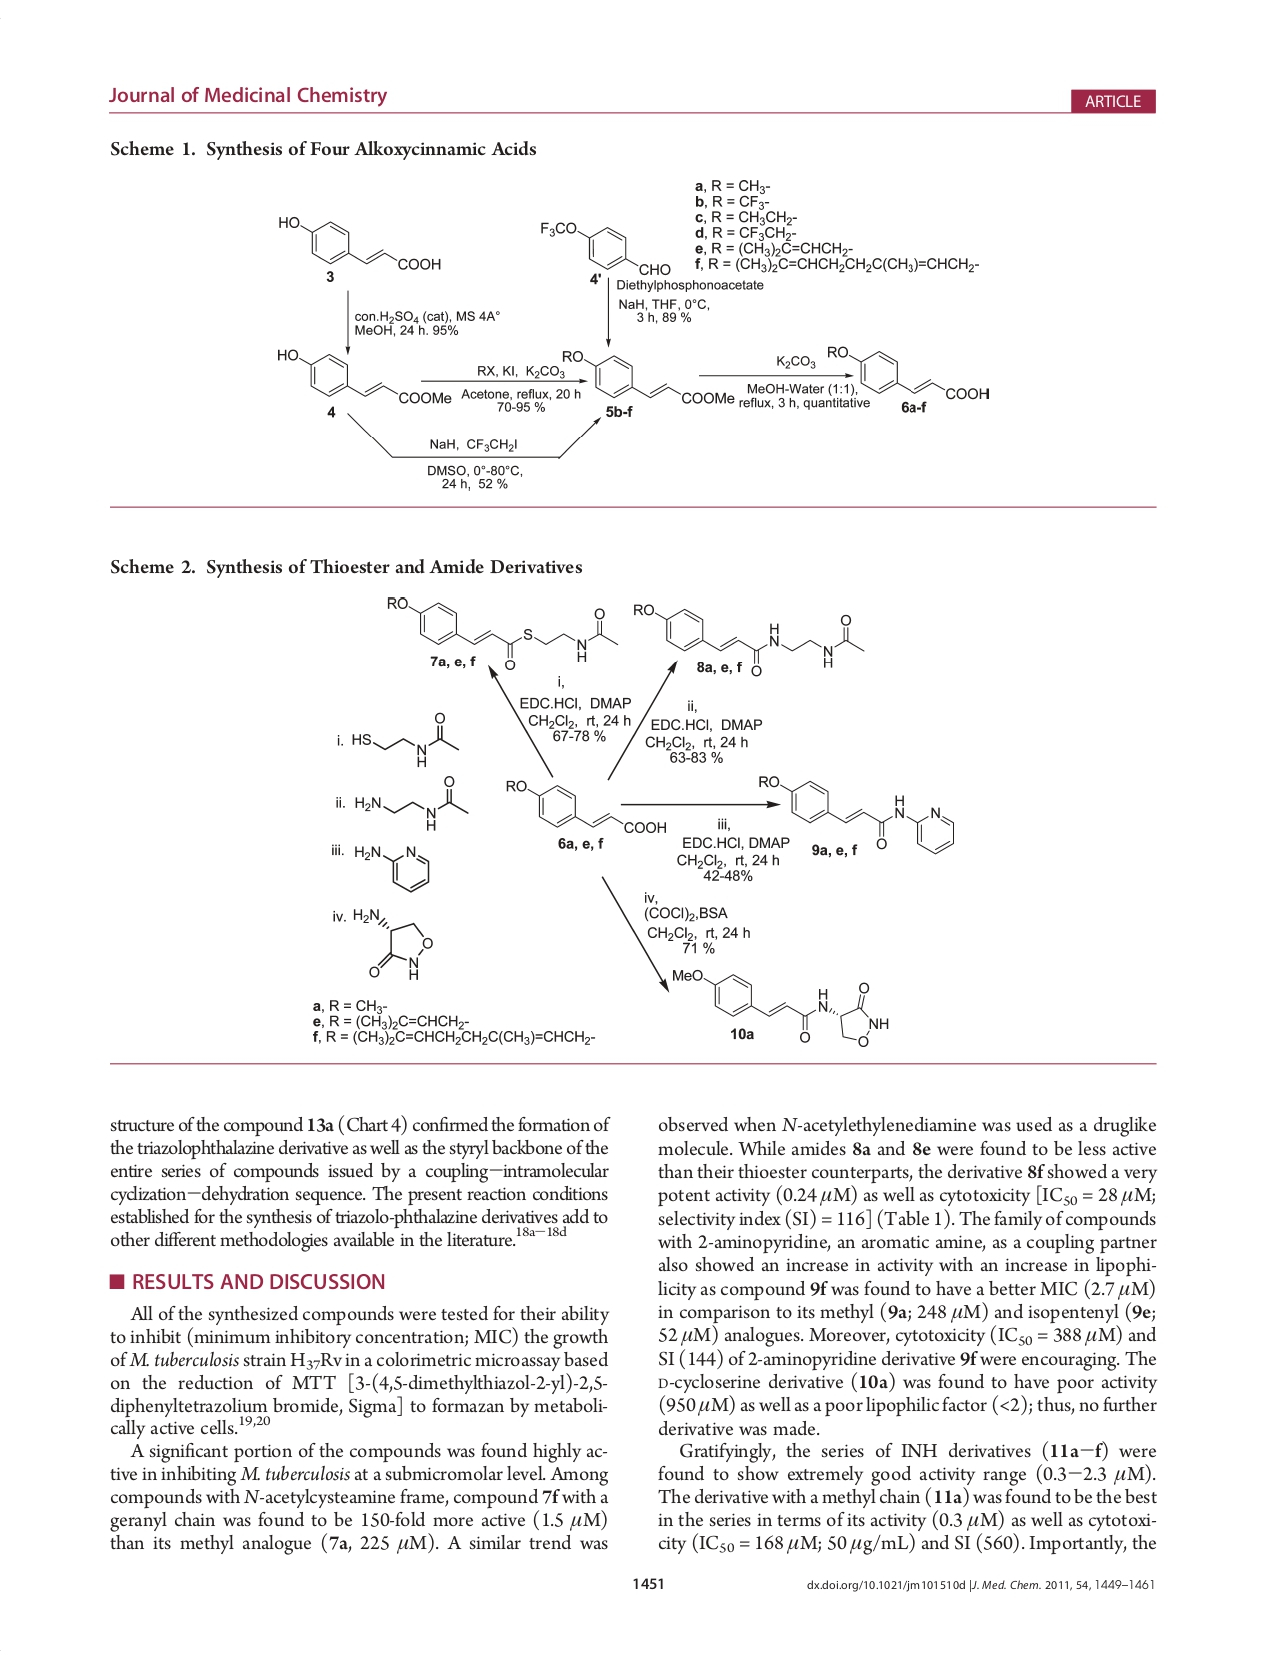exist_molecular: (670, 959, 895, 1049), (630, 594, 866, 680), (383, 590, 622, 673), (754, 770, 961, 859), (275, 342, 455, 410), (557, 344, 735, 411), (819, 338, 995, 404), (503, 770, 670, 839), (271, 210, 444, 277), (532, 213, 672, 279), (352, 704, 461, 770), (348, 902, 436, 980), (351, 775, 469, 833), (350, 836, 434, 896)
